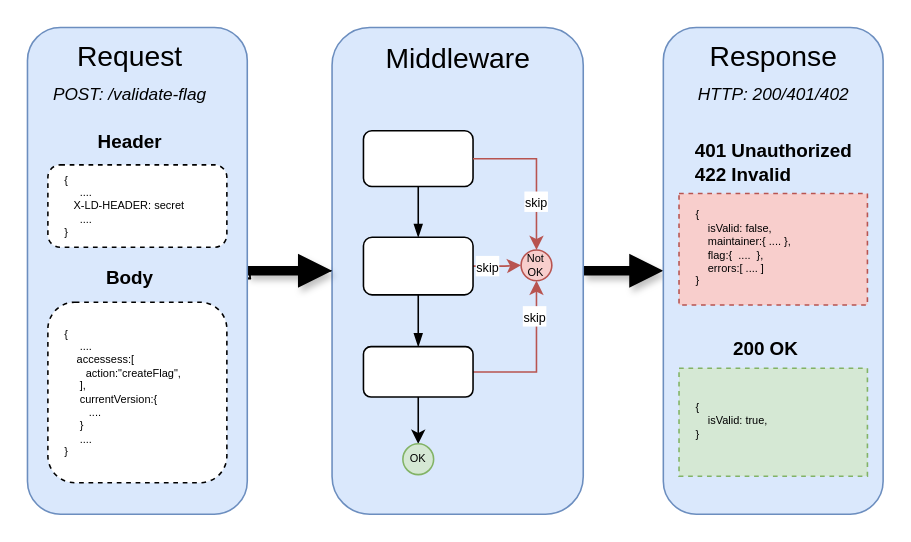
The diagram is 911 pixels wide and 542 high, and some of its shapes have lost their labels. The shapes that lost their labels are listed below. From the top down, each one's centre as x and y in pixels, then its label:
At pixel 417 158: "Webhook Secret".
At pixel 417 265: "Flag Action".
At pixel 417 371: "Flag convention".
